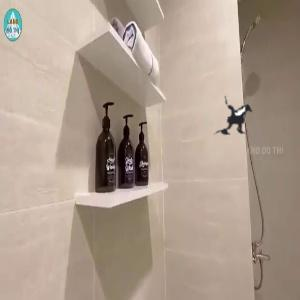drone: (195, 79, 283, 167)
